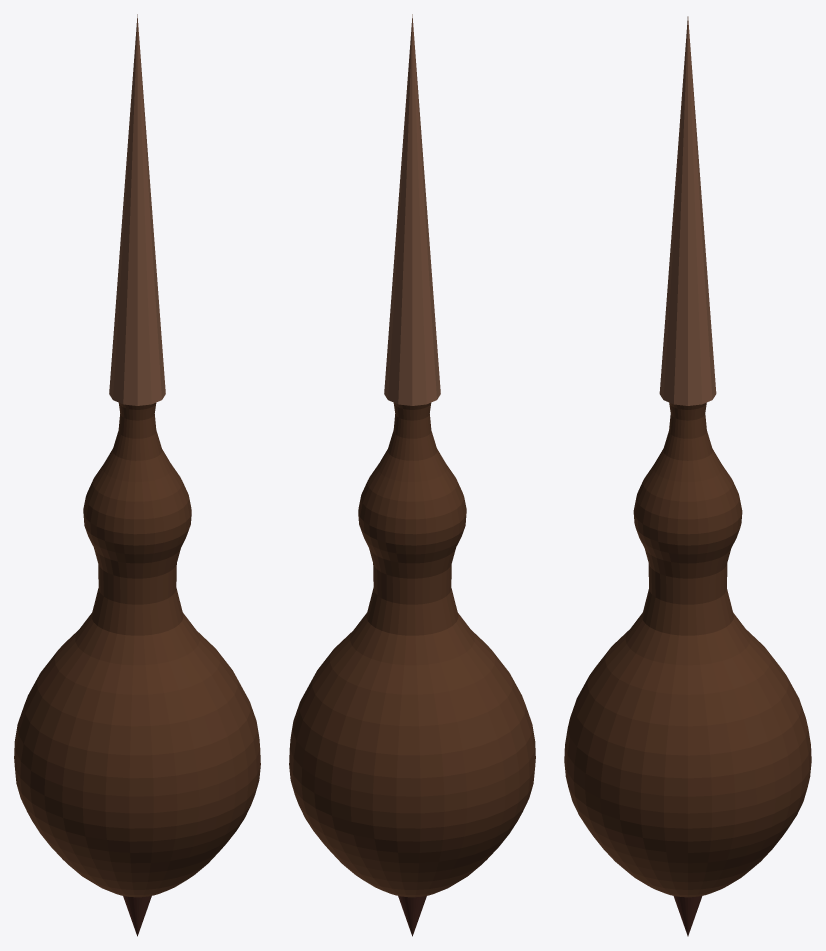
File: Wand 622.glb
3 views of the same model, side by side, from view 1: azimuth 30°, elevation 25°; view 2: azimuth 150°, elevation 25°; view 3: azimuth 270°, elevation 25° (orthographic).
Visible parts, largest first — view 1: GeneratedWand; view 2: GeneratedWand; view 3: GeneratedWand.
Boxes of the visible parts, box(x1,y1,x2,y2) form: GeneratedWand: box(14, 14, 260, 936); GeneratedWand: box(289, 14, 535, 936); GeneratedWand: box(564, 16, 811, 936).
Bounding box in the file's own units: 0.123 × 0.5062 × 0.123.
